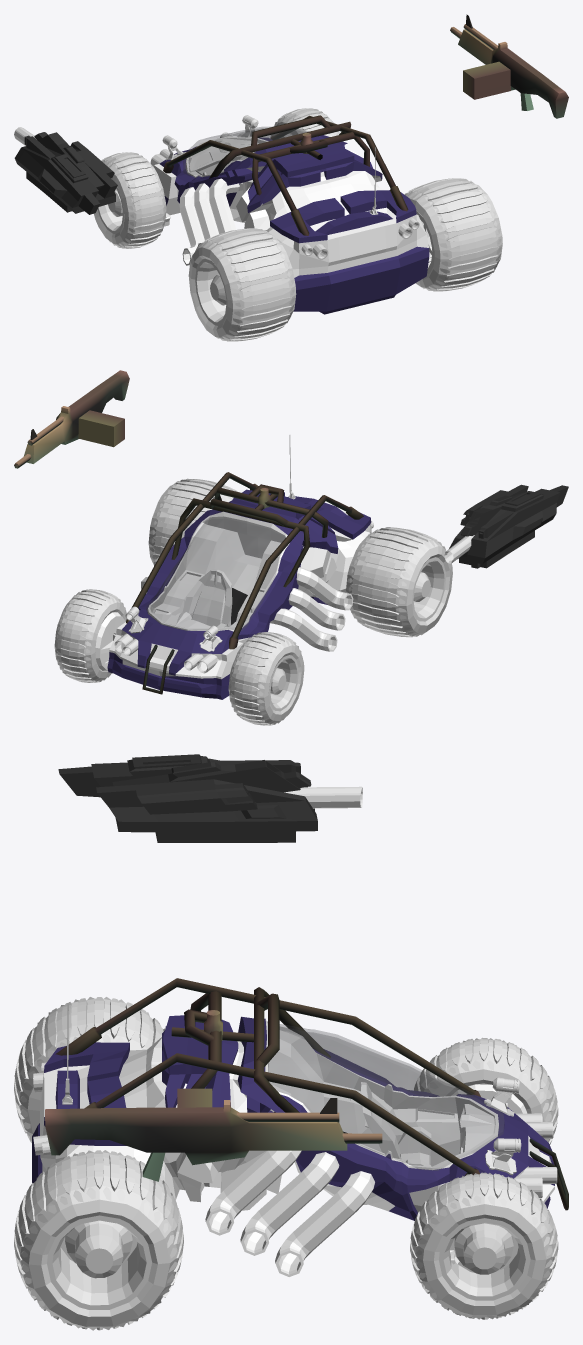
The model's file is VOITURE TEXTURE TEST.fbx.
3 renders of one model, top to bottom at view 1: azimuth 30°, elevation 25°; view 2: azimuth 150°, elevation 25°; view 3: azimuth 270°, elevation 25°, orthographic. The views are drawn at different scales.
Visible parts, largest first — view 1: polySurface2, polySurface268, polySurface107, polySurface89, polySurface559, polySurface365, polySurface152, Car_Glas_Mesh, polySurface105, polySurface103, polySurface148, polySurface151 (+2 smaller); view 2: polySurface2, Car_Glas_Mesh, polySurface268, polySurface107, polySurface89, polySurface365, polySurface152, polySurface462, polySurface103, polySurface559, polySurface148, polySurface105 (+4 smaller); view 3: polySurface2, polySurface559, polySurface107, Car_Glas_Mesh, polySurface89, polySurface462, polySurface152, polySurface365, polySurface157, polySurface156, polySurface268, polySurface155 (+5 smaller).
Boxes of the visible parts, x1,y1,x2,y2 form: polySurface2: (154,135,429,314); polySurface268: (188,233,296,340); polySurface107: (14,127,117,214); polySurface89: (450,14,568,118); polySurface559: (406,181,502,290); polySurface365: (94,156,166,247); polySurface152: (163,115,408,235); Car_Glas_Mesh: (183,126,308,175); polySurface105: (209,178,239,233); polySurface103: (180,187,204,265); polySurface148: (209,121,351,178); polySurface151: (252,131,369,195); polySurface2: (107,489,371,699); Car_Glas_Mesh: (146,517,285,630); polySurface268: (346,530,452,634); polySurface107: (444,484,568,568); polySurface89: (14,370,129,468); polySurface365: (228,635,304,723); polySurface152: (126,472,363,649); polySurface462: (54,593,126,681); polySurface103: (270,608,337,651); polySurface559: (148,481,235,564); polySurface148: (171,498,310,587); polySurface105: (296,567,353,610); polySurface2: (32,1015,554,1220); polySurface559: (15,1152,180,1327); polySurface107: (58,754,362,842); Car_Glas_Mesh: (268,1024,504,1170); polySurface89: (45,1088,382,1181); polySurface462: (411,1174,556,1317); polySurface152: (55,978,480,1175); polySurface365: (419,1039,556,1142); polySurface157: (275,1171,374,1276); polySurface156: (240,1152,339,1255); polySurface268: (16,998,163,1136); polySurface155: (205,1150,301,1235).
Size of the model in its own units: 270 by 107 by 177.
10 materials, 1 textured.
